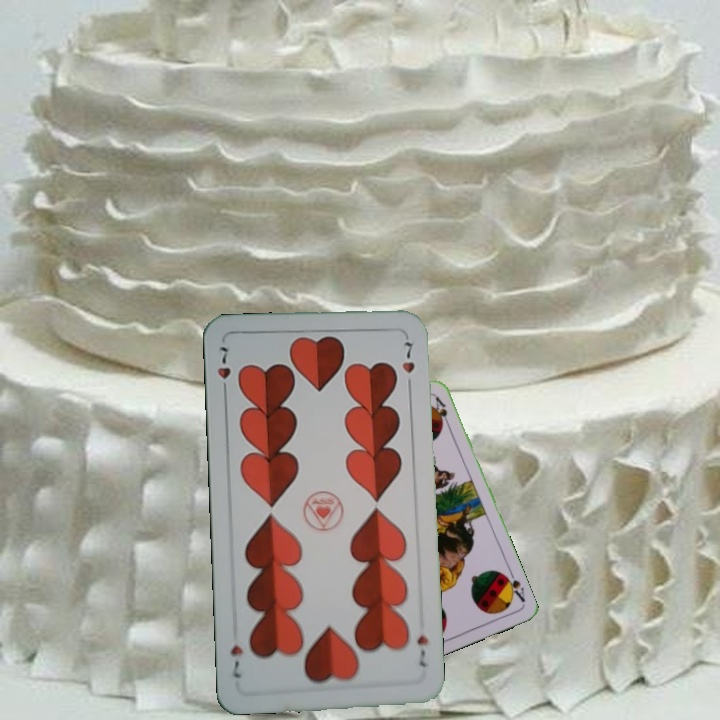H7: (213, 341, 233, 398), (413, 631, 431, 670)
SA: (499, 567, 527, 605)
